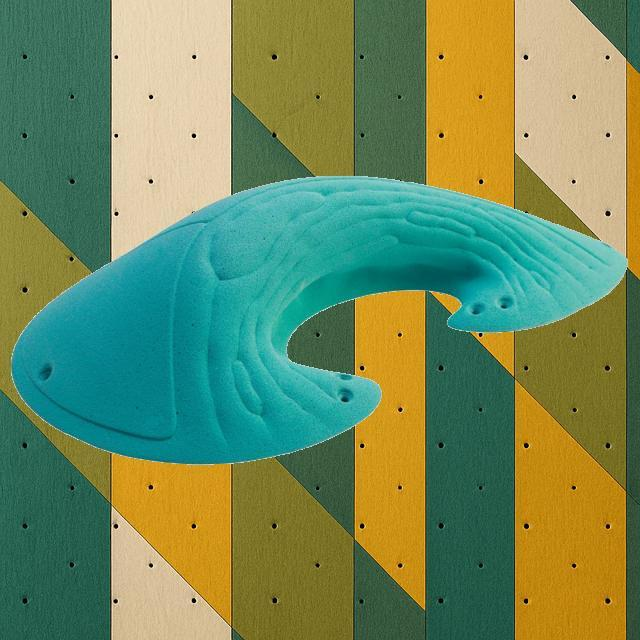Jug: (9, 173, 628, 465)
